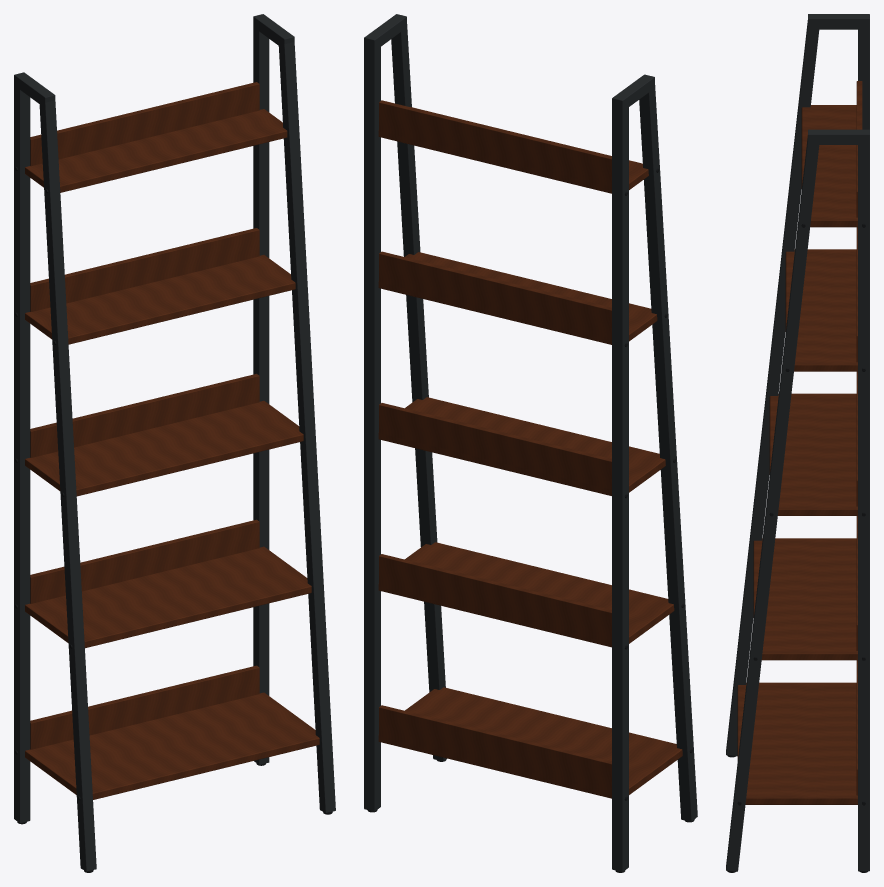
Rendered from vasagle-ladder-bookcase.glb.
3 renders of one model, left to right at view 1: azimuth 30°, elevation 25°; view 2: azimuth 150°, elevation 25°; view 3: azimuth 270°, elevation 25°, orthographic. The views are drawn at different scales.
Visible parts, largest first — view 1: Shelf 1, Shelf 2, Front sloping steel upright, Front sloping steel upright.001, Rear vertical steel upright, Shelf 3, Shelf 4, Shelf 5, Rear vertical steel upright.001, Rear shelf retaining lip 2, Rear shelf retaining lip 1, Rear shelf retaining lip 5 (+4 smaller); view 2: Rear vertical steel upright, Rear vertical steel upright.001, Front sloping steel upright, Shelf 1, Front sloping steel upright.001, Rear shelf retaining lip 2, Rear shelf retaining lip 1, Rear shelf retaining lip 5, Rear shelf retaining lip 4, Shelf 2, Rear shelf retaining lip 3, Shelf 3 (+4 smaller); view 3: Shelf 1, Shelf 2, Front sloping steel upright.001, Shelf 3, Rear vertical steel upright.001, Front sloping steel upright, Shelf 4, Shelf 5, Rear vertical steel upright, Top side bridge, Top side bridge.001, Rear shelf retaining lip 5.
Part boxes in pixels (x1,y1,x2,y2): Shelf 1: [25, 692, 319, 799]; Shelf 2: [25, 546, 311, 648]; Front sloping steel upright: [39, 100, 96, 871]; Front sloping steel upright.001: [278, 42, 335, 812]; Rear vertical steel upright: [14, 81, 30, 823]; Shelf 3: [25, 400, 303, 496]; Shelf 4: [25, 255, 295, 344]; Shelf 5: [25, 109, 287, 192]; Rear vertical steel upright.001: [253, 23, 269, 764]; Rear shelf retaining lip 2: [30, 519, 259, 603]; Rear shelf retaining lip 1: [30, 665, 259, 749]; Rear shelf retaining lip 5: [30, 82, 259, 166]; Rear vertical steel upright: [612, 102, 628, 871]; Rear vertical steel upright.001: [364, 42, 380, 811]; Front sloping steel upright: [639, 83, 697, 821]; Shelf 1: [378, 687, 682, 798]; Front sloping steel upright.001: [391, 24, 446, 761]; Rear shelf retaining lip 2: [379, 554, 611, 643]; Rear shelf retaining lip 1: [379, 705, 611, 794]; Rear shelf retaining lip 5: [379, 100, 611, 189]; Rear shelf retaining lip 4: [379, 251, 611, 340]; Shelf 2: [378, 542, 674, 647]; Rear shelf retaining lip 3: [379, 403, 611, 491]; Shelf 3: [378, 397, 665, 495]; Shelf 1: [737, 682, 857, 804]; Shelf 2: [753, 538, 857, 660]; Front sloping steel upright.001: [726, 135, 819, 871]; Shelf 3: [769, 393, 857, 515]; Rear vertical steel upright.001: [858, 140, 869, 871]; Front sloping steel upright: [726, 20, 819, 756]; Shelf 4: [785, 249, 857, 371]; Shelf 5: [801, 105, 857, 227]; Rear vertical steel upright: [858, 24, 869, 129]; Top side bridge: [808, 14, 869, 29]; Top side bridge.001: [808, 129, 869, 144]; Rear shelf retaining lip 5: [856, 81, 862, 217].
Bounding box in the file's own units: 0.5994 × 1.7 × 0.2997.
Materials: 3 (1 with a texture image).
